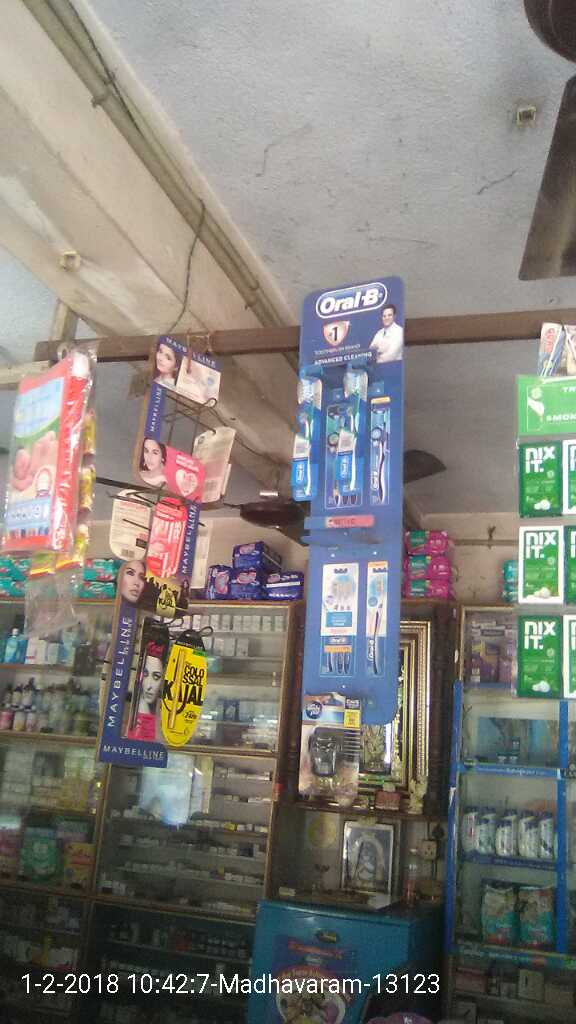oralb: (329, 374, 362, 494), (291, 376, 323, 488)
